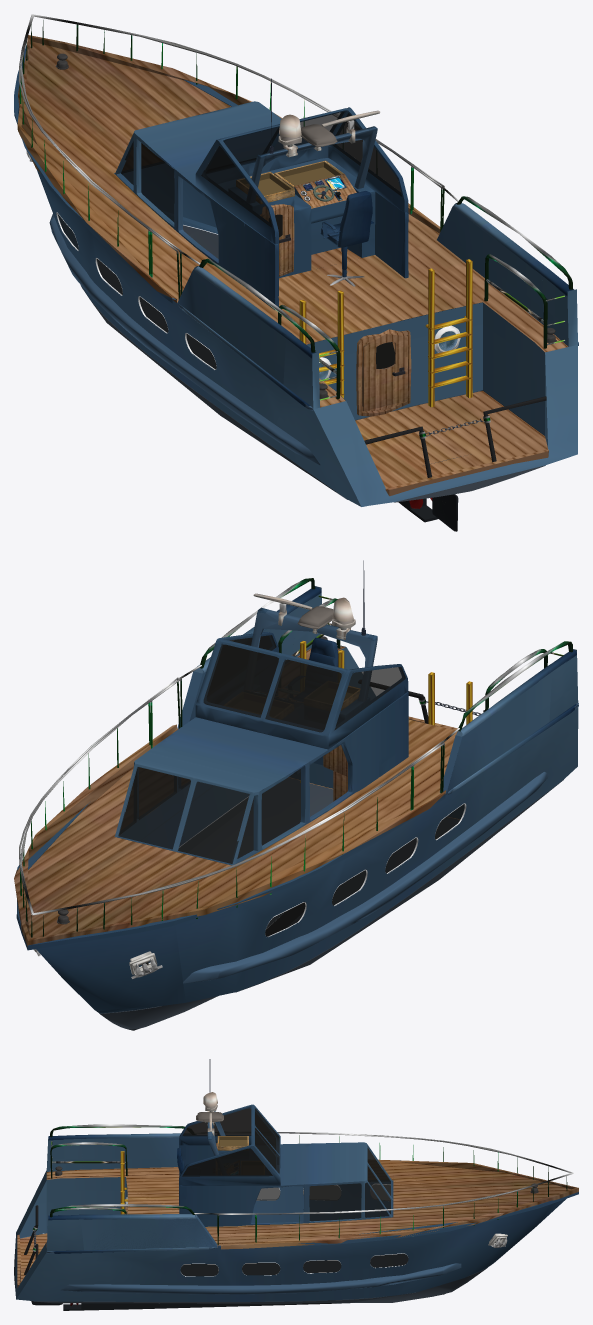
File: yacht.glb
3 renders of one model, top to bottom at view 1: azimuth 30°, elevation 25°; view 2: azimuth 150°, elevation 25°; view 3: azimuth 270°, elevation 25°, orthographic. The views are drawn at different scales.
Visible parts, largest first — view 1: yacht; view 2: yacht; view 3: yacht.
Part boxes in pixels (x1,y1,x2,y2): yacht: [14, 14, 578, 531]; yacht: [14, 560, 578, 1030]; yacht: [14, 1059, 578, 1310].
Size of the model in its own units: 5.92 by 7.62 by 16.6.
38 materials, 37 textured.
